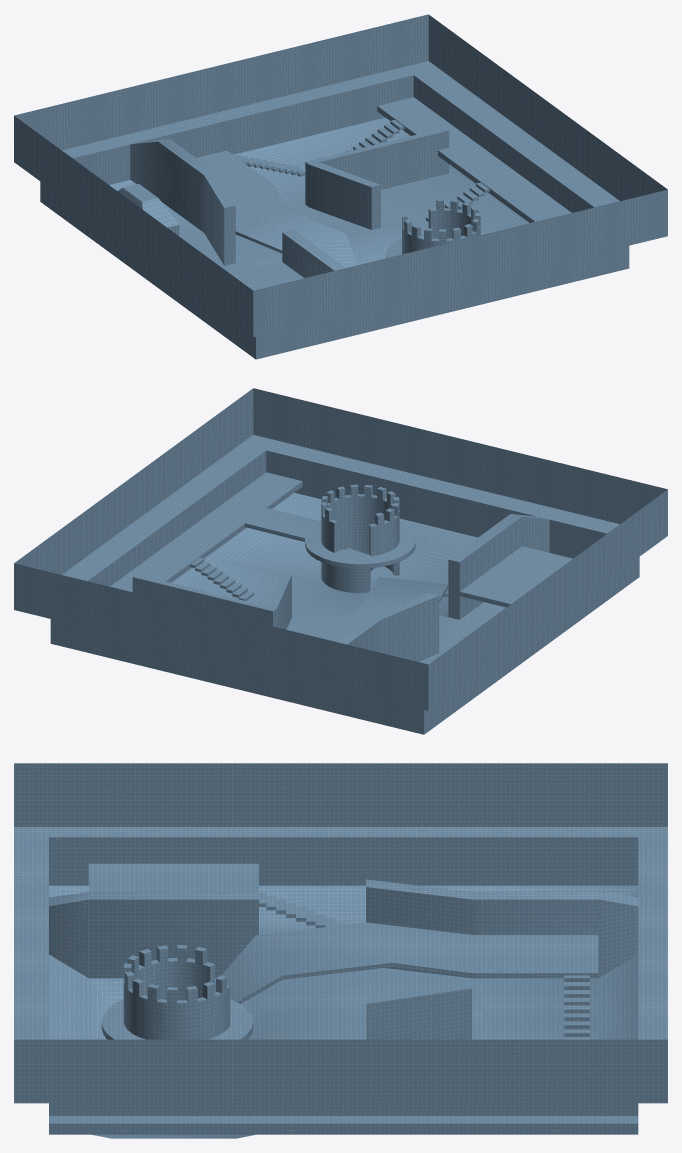
File: 碰撞世界.glb
3 views of the same model, one above another, from view 1: azimuth 30°, elevation 25°; view 2: azimuth 150°, elevation 25°; view 3: azimuth 270°, elevation 25° (orthographic). The views are drawn at different scales.
Visible parts, largest first — view 1: Cube.004; view 2: Cube.004; view 3: Cube.004.
Boxes of the visible parts, x1,y1,x2,y2 form: Cube.004: (14, 14, 667, 359); Cube.004: (14, 388, 667, 734); Cube.004: (14, 763, 667, 1138).
Size of the model in its own units: 34.36 by 8.59 by 34.36.
1 material, 1 textured.
